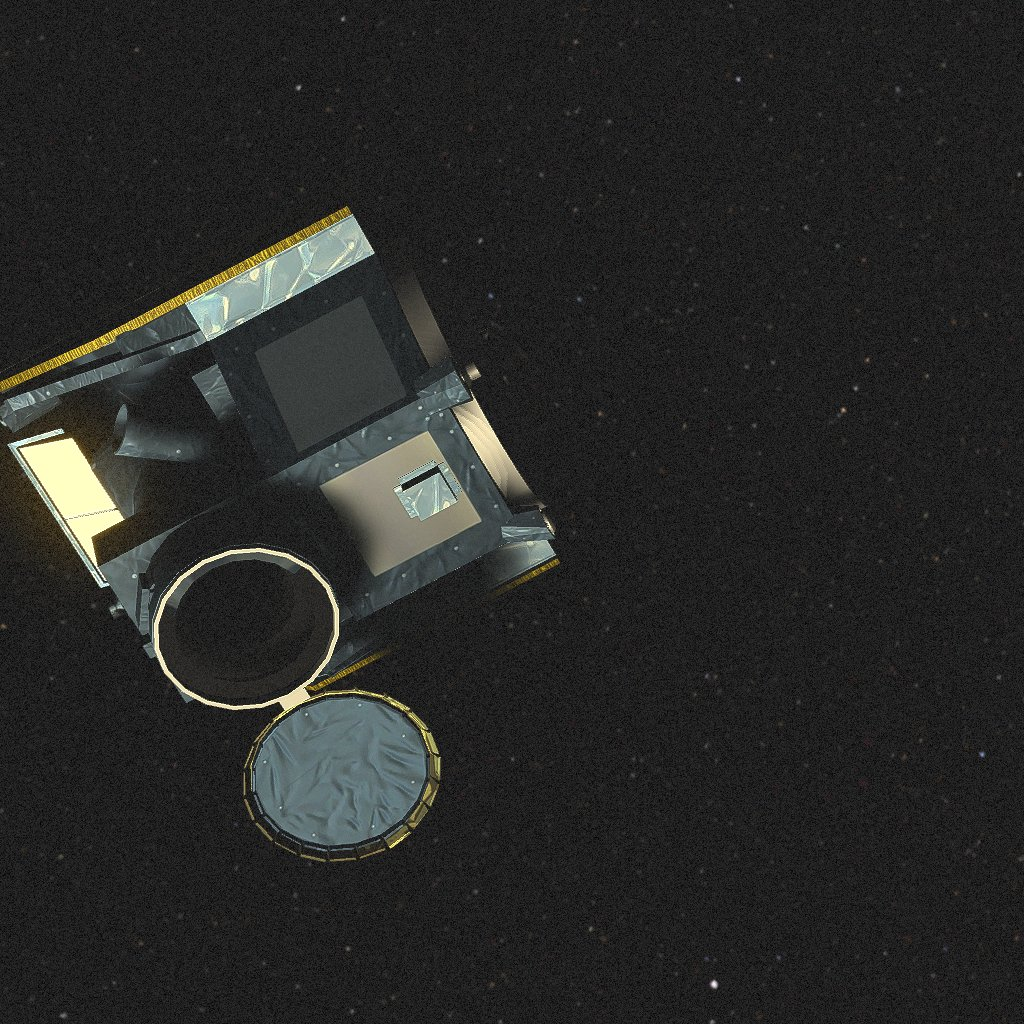cheops: (0, 178, 560, 862)
